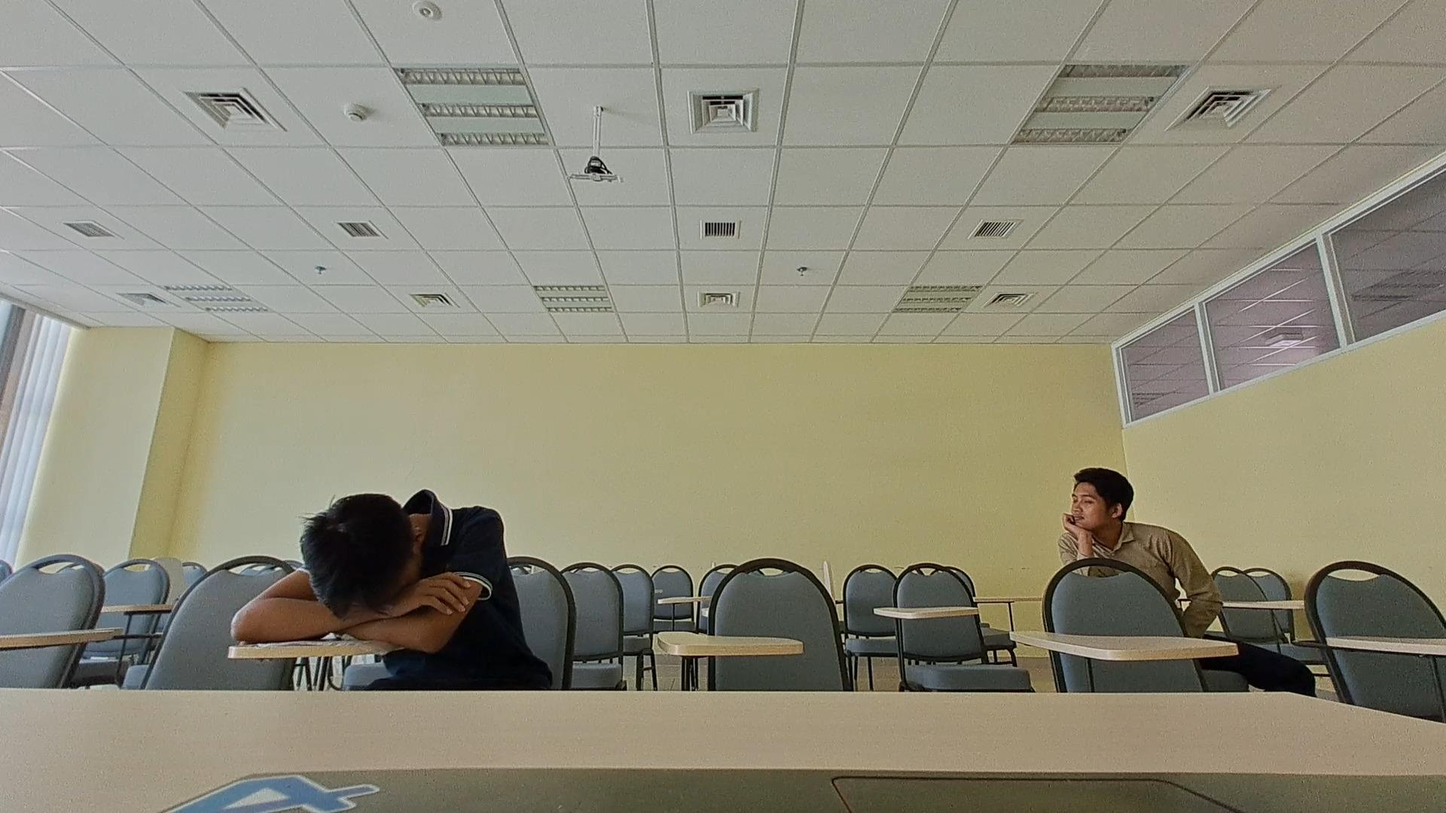sleep: (215, 486, 540, 691)
study: (1047, 467, 1224, 642)
